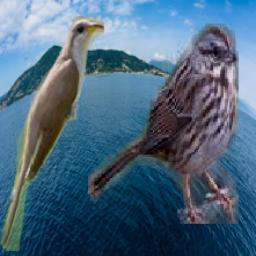Cuckoo: (0, 16, 104, 251)
Sparrow: (88, 23, 239, 224)
